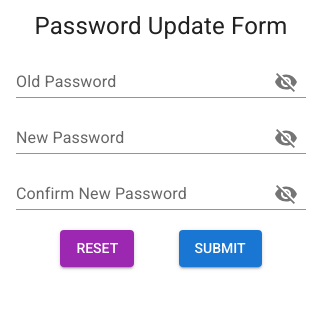
PasswordUpdateForm component › Form field validations › displays error message if passwords don't match
Type "12345678" into the password field labelled "New Password". click: [137, 138]
box: [16,122,258,154]
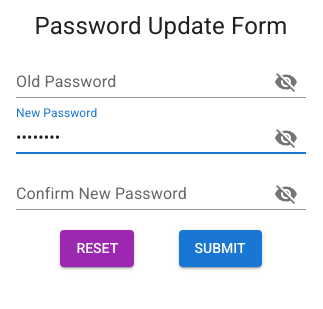
Type "123456789" into the password field labelled "Confirm New Password". click: [137, 194]
box: [16,178,258,210]
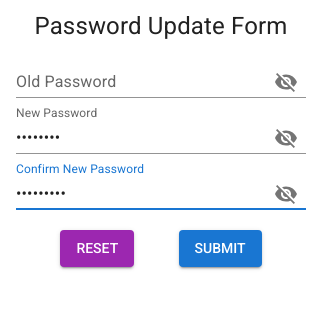
Click the button "Submit". click: [220, 248]
box: [179,230,262,266]
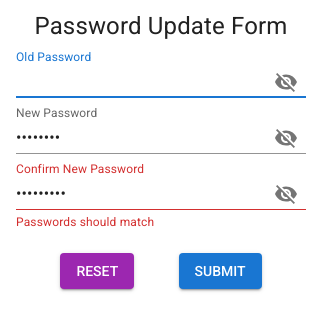
Expected: the text "Passwords should match" is shown, [16,215,154,229]
